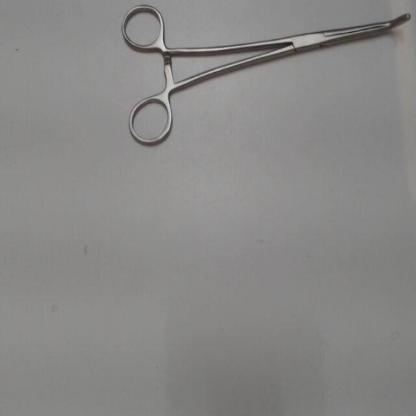Lahey Forceps: (116, 1, 414, 157)
